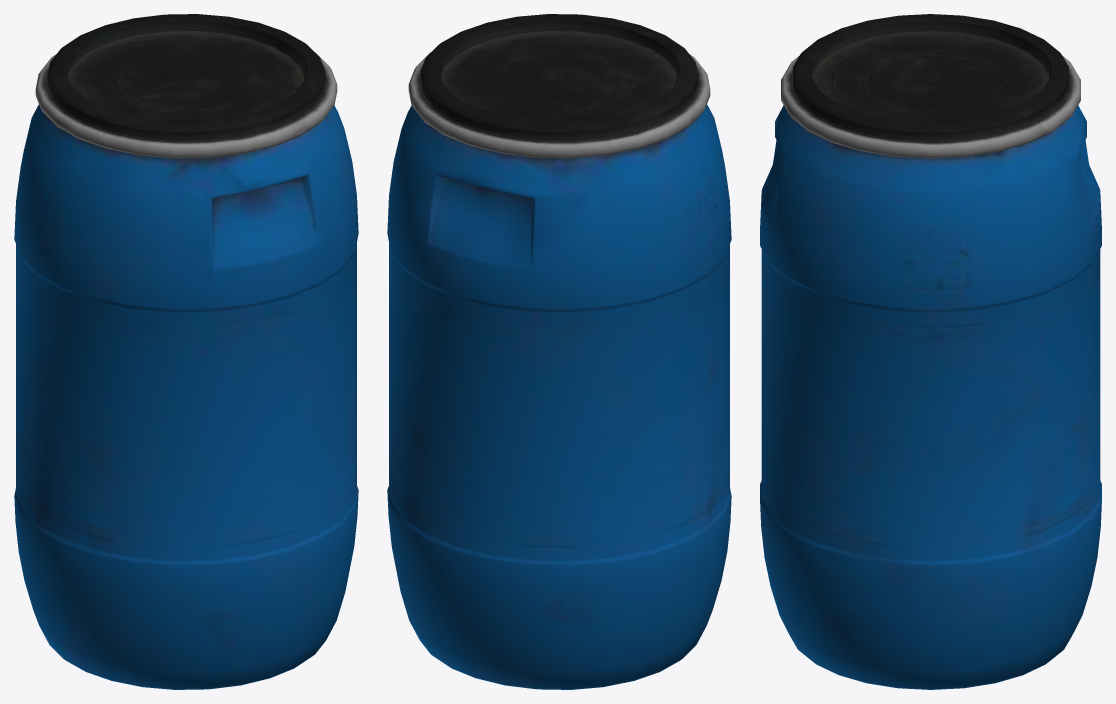
File: Barrel_02.glb
3 views of the same model, side by side, from view 1: azimuth 30°, elevation 25°; view 2: azimuth 150°, elevation 25°; view 3: azimuth 270°, elevation 25° (orthographic).
Parts seen in each view (by area): view 1: Barrel_02; view 2: Barrel_02; view 3: Barrel_02.
Boxes of the visible parts, x1,y1,x2,y2 form: Barrel_02: [14, 14, 358, 689]; Barrel_02: [387, 14, 731, 689]; Barrel_02: [760, 14, 1101, 689].
Size of the model in its own units: 0.4882 by 0.88 by 0.4846.
Materials: 1 (1 with a texture image).
